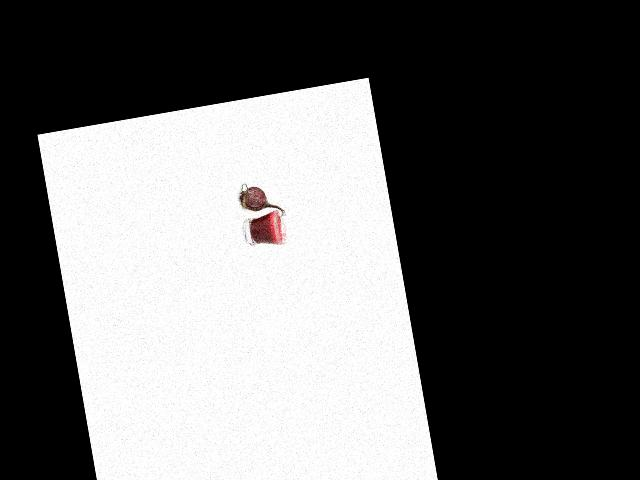beet: (236, 178, 286, 228)
